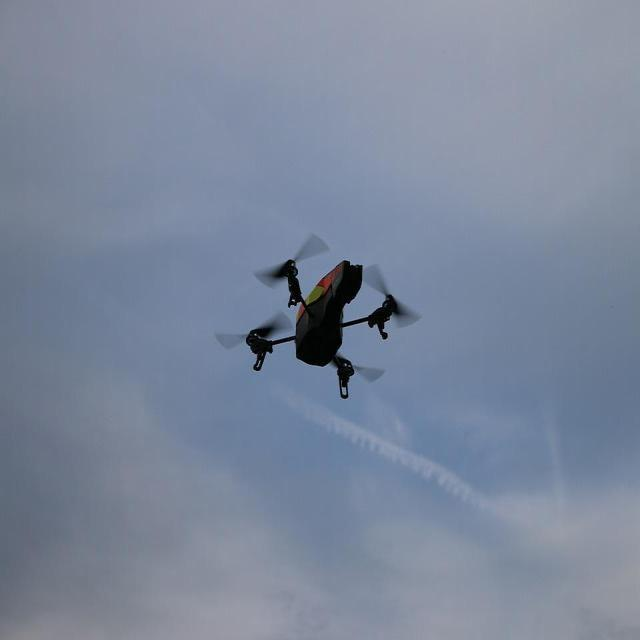UAV: (245, 246, 399, 404)
